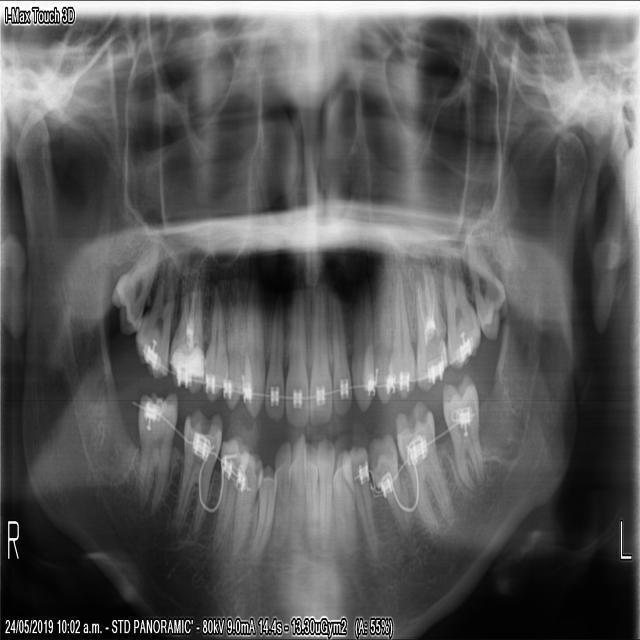LCD: (330, 445, 355, 563)
LCU: (348, 279, 374, 414)
LID: (313, 436, 334, 557), (300, 439, 318, 563)
LIU: (306, 282, 330, 426), (328, 288, 351, 416)
LMD: (393, 395, 452, 541), (438, 369, 482, 493)
LMU: (440, 252, 479, 369), (464, 241, 506, 342)
LPMD: (366, 430, 412, 535), (339, 441, 376, 562)
LPMU: (372, 257, 414, 407), (411, 252, 445, 394)
RCD: (246, 462, 274, 564)
RCU: (240, 282, 264, 421)
RID: (285, 432, 304, 555), (271, 437, 289, 554)
RIU: (281, 287, 307, 427), (262, 291, 283, 423)
RMD: (172, 403, 221, 542), (133, 385, 177, 515)
RMU: (132, 255, 176, 380), (107, 235, 160, 335), (166, 262, 203, 394)
RPMD: (209, 433, 246, 551), (228, 448, 261, 561)
RPMU: (201, 285, 225, 404), (221, 288, 240, 407)
